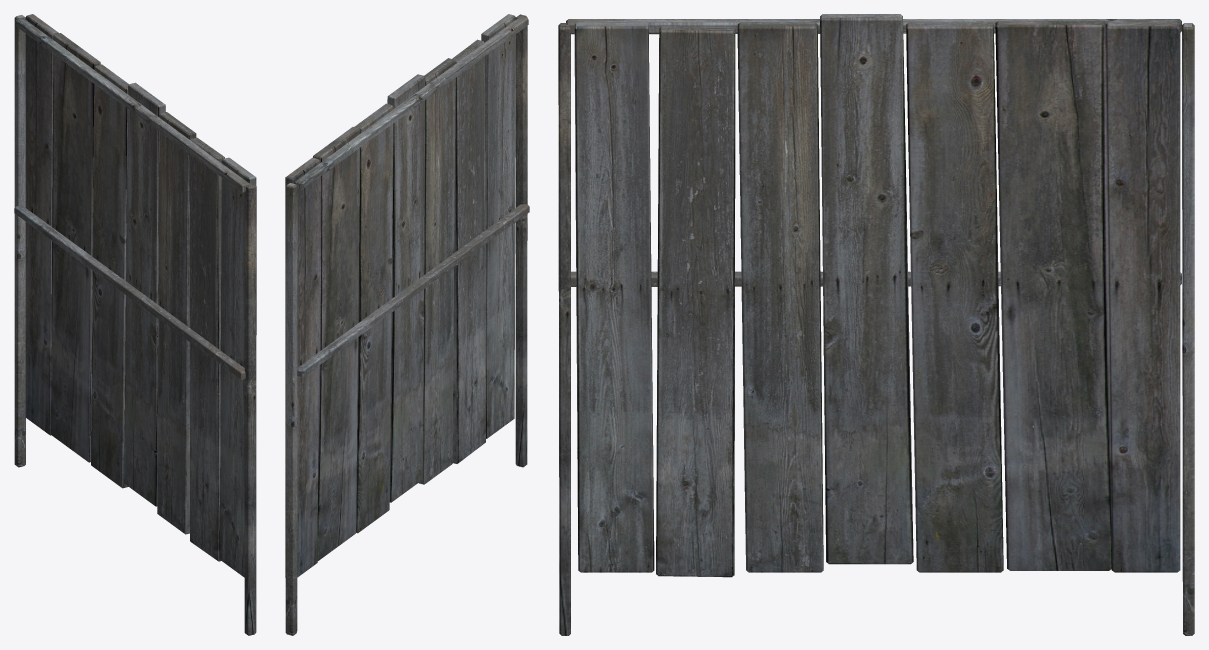
The model's file is Zabor2.fbx.
3 views of the same model, side by side, from view 1: azimuth 30°, elevation 25°; view 2: azimuth 150°, elevation 25°; view 3: azimuth 270°, elevation 25° (orthographic). The views are drawn at different scales.
Parts seen in each view (by area): view 1: UhG81k.024; view 2: UhG81k.024; view 3: UhG81k.024.
Part boxes in pixels (<box>): UhG81k.024: <box>14,14,256,635</box>; UhG81k.024: <box>285,14,529,635</box>; UhG81k.024: <box>558,14,1194,635</box>.
Bounding box in the file's own units: 6.16 × 138 × 128.
